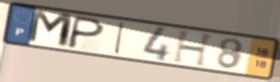4: (141, 26, 172, 63)
8: (215, 37, 245, 70)
H: (171, 29, 217, 68)
I: (112, 20, 127, 56)
M: (25, 8, 76, 50)
P: (64, 15, 108, 51)
